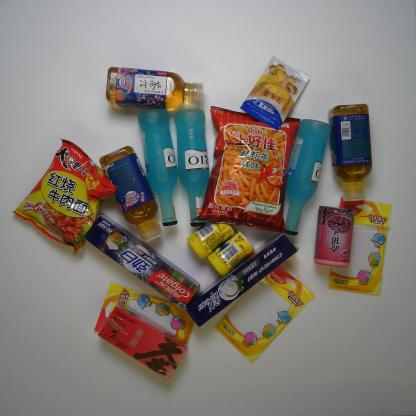Alcohol: (282, 118, 332, 236), (136, 107, 180, 227), (173, 108, 211, 228)
Canned Food: (314, 205, 356, 269)
Drink: (98, 146, 164, 244), (327, 102, 373, 204), (104, 66, 204, 110)
Gum: (207, 230, 257, 278), (186, 217, 235, 259)
Instant Drink: (97, 300, 188, 379)
Instant Noodles: (12, 138, 117, 256)
Personal Hygiene: (84, 212, 200, 312), (184, 232, 300, 328)
Puffed Food: (192, 105, 302, 234)
Seasoner: (239, 55, 310, 132)
Stationery: (214, 266, 316, 364), (93, 281, 196, 362), (327, 196, 393, 298)
